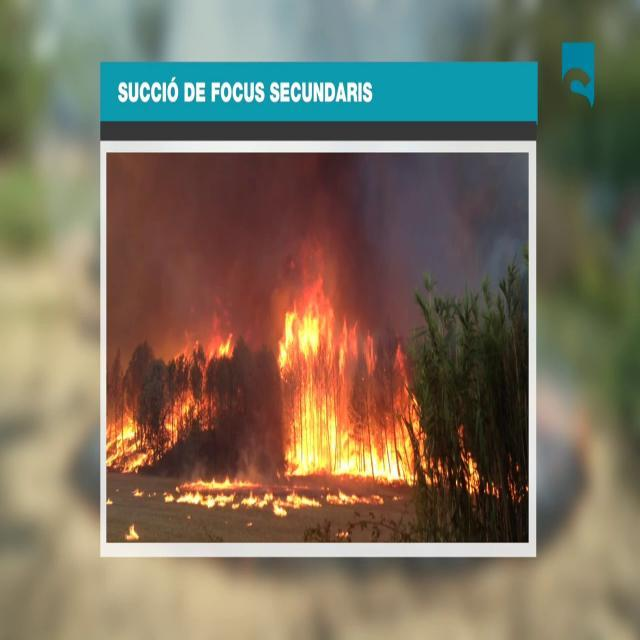Fire: (273, 280, 427, 497), (108, 322, 240, 474), (170, 470, 282, 512), (458, 436, 482, 504)
Smoke: (107, 157, 382, 330)
